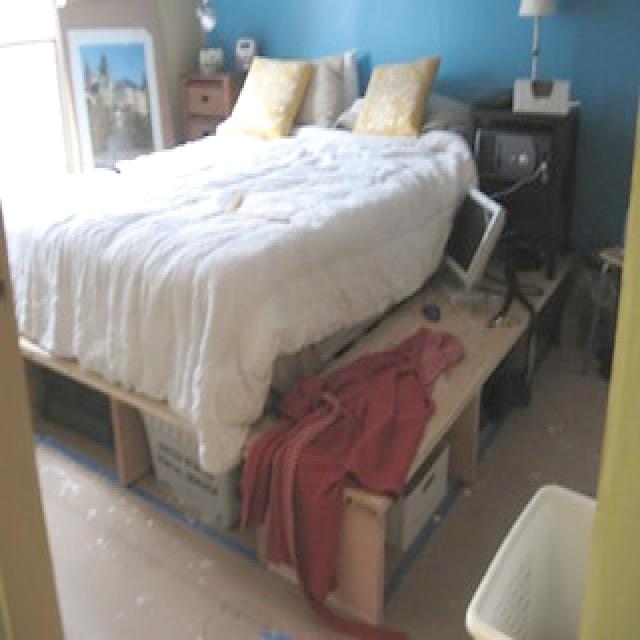bed: (0, 90, 570, 519)
